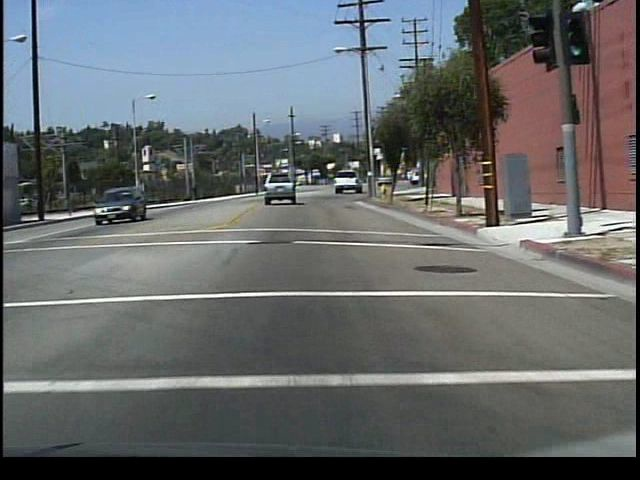person: (190, 180, 202, 202)
